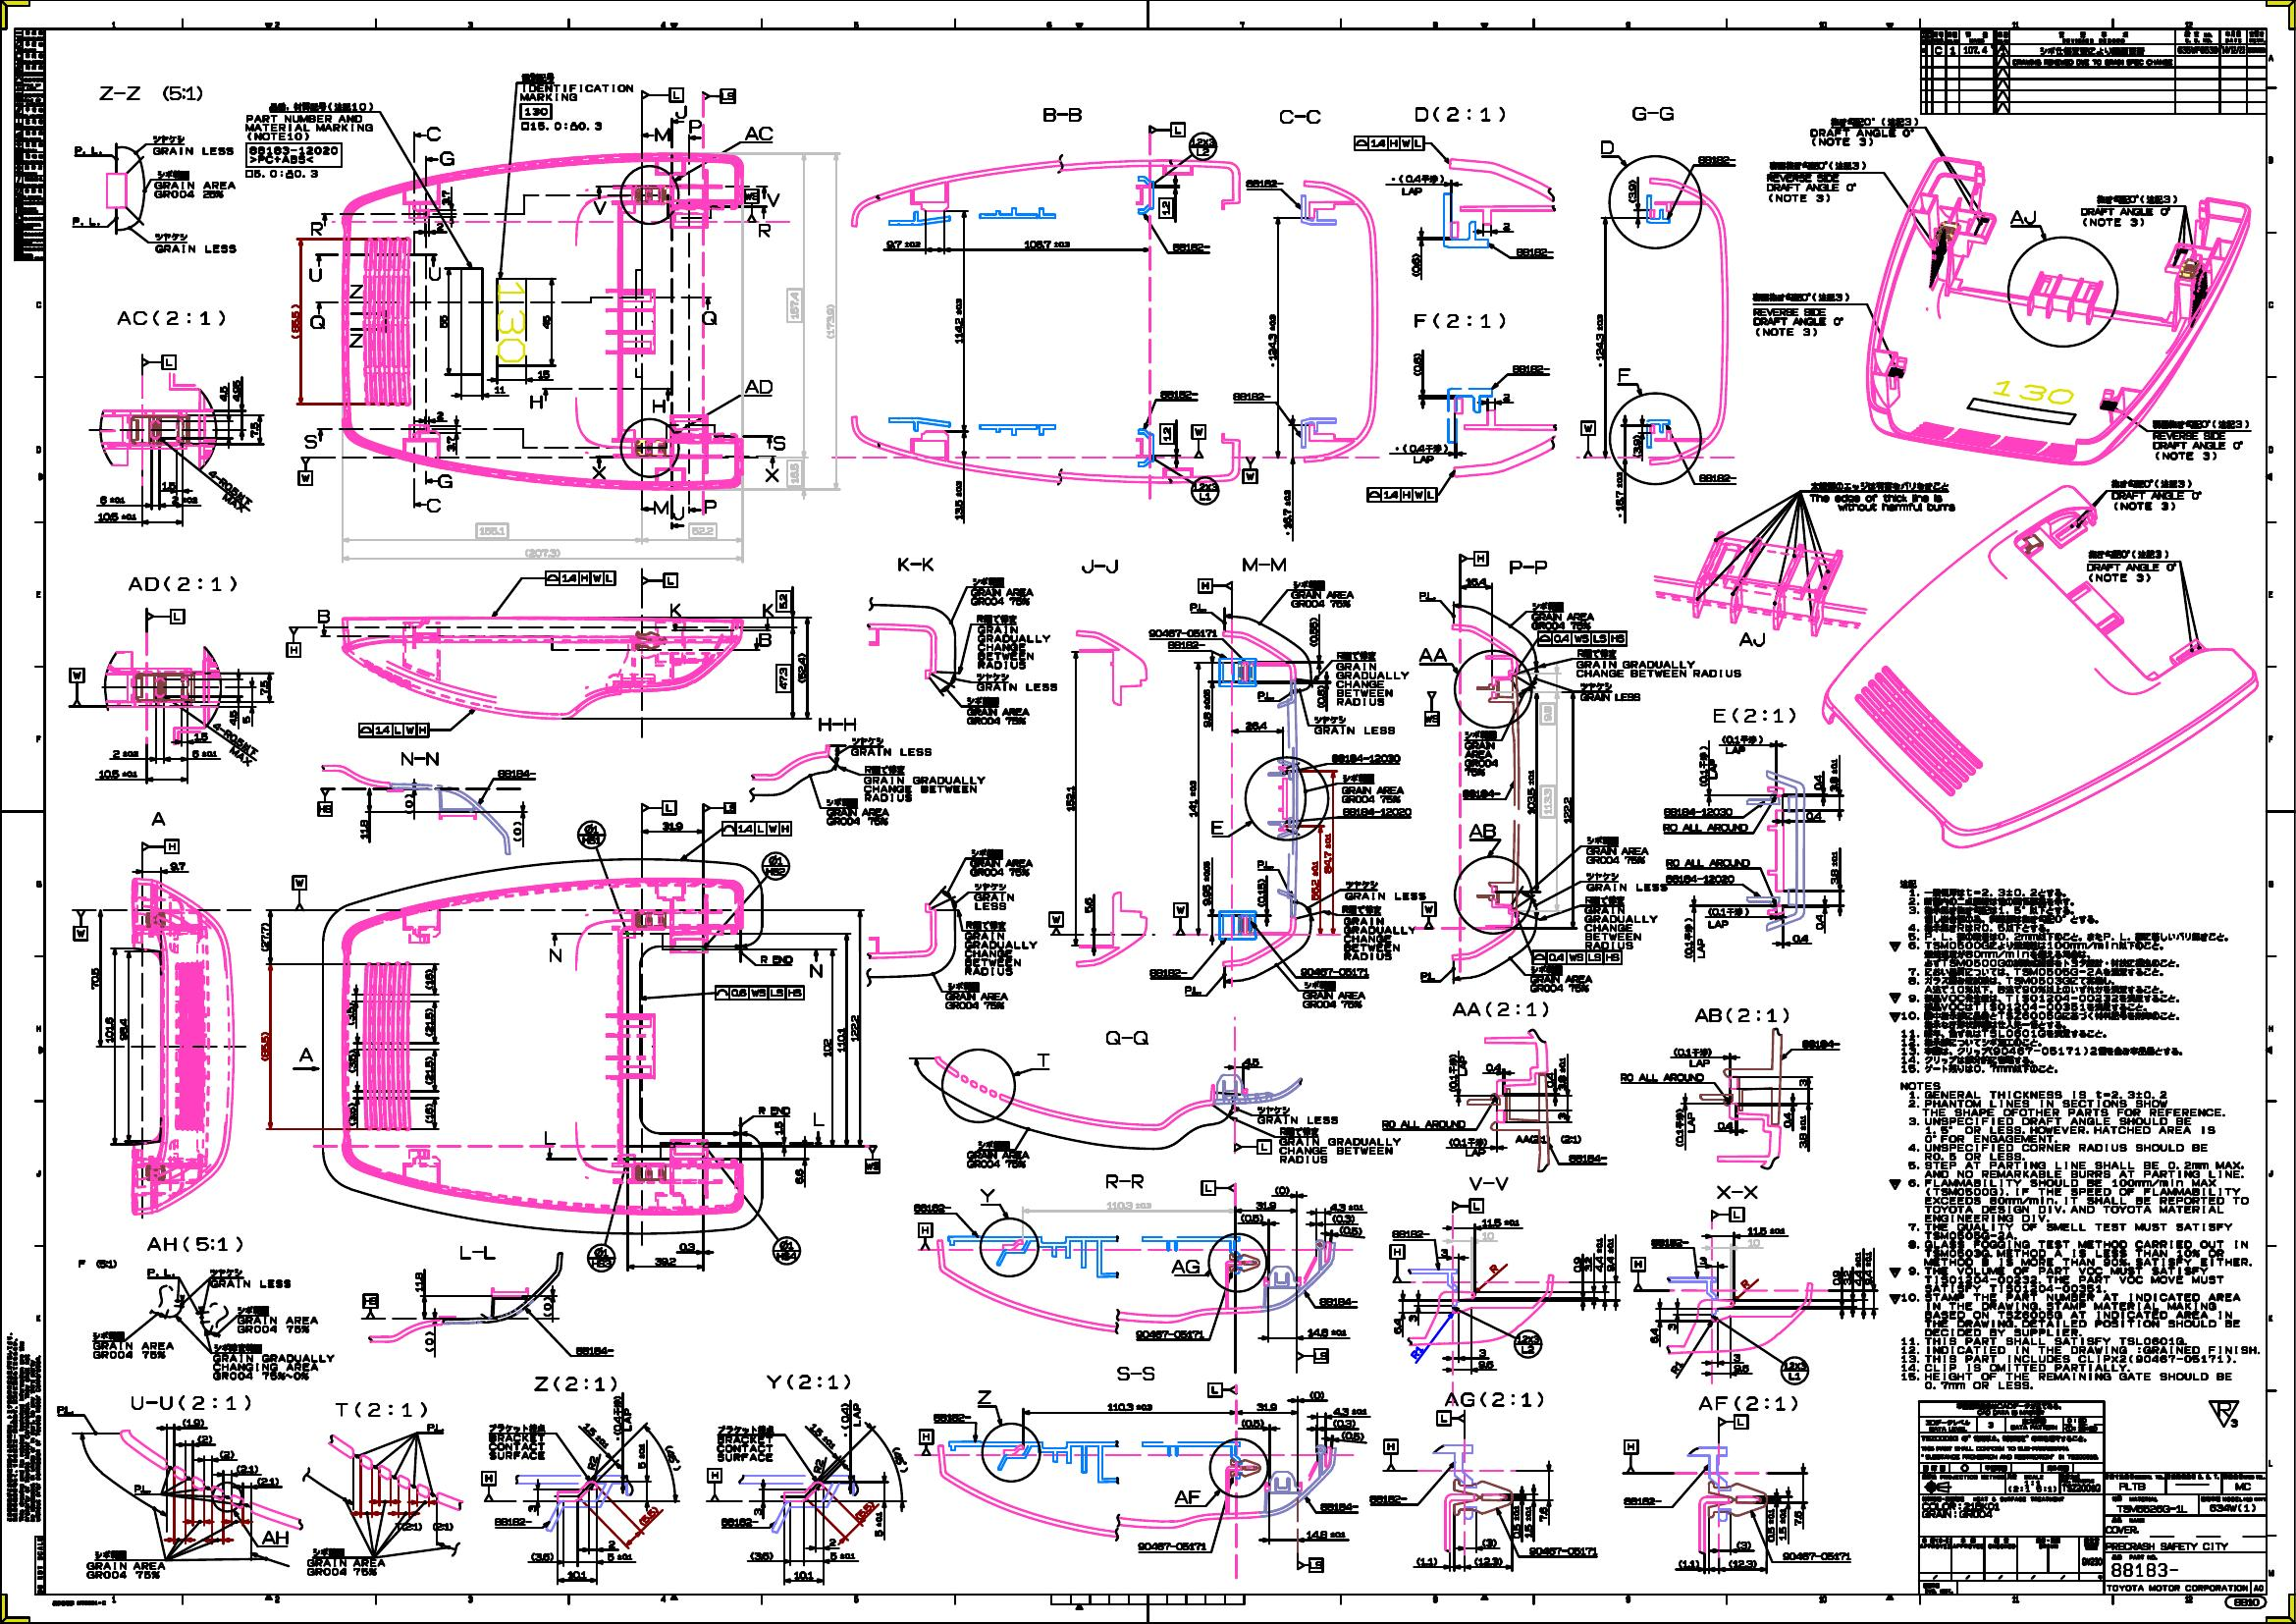anntotation_text: (1888, 1079, 2264, 1390), (1887, 875, 2231, 1076), (242, 98, 378, 183), (520, 69, 634, 139), (4, 1330, 42, 1522), (1279, 1125, 1402, 1165), (1750, 292, 1850, 341), (213, 1343, 337, 1381), (1764, 160, 1867, 206), (1576, 649, 1743, 677), (863, 765, 987, 801), (1808, 480, 1957, 510), (2150, 420, 2252, 462), (1335, 649, 1409, 707), (1340, 903, 1416, 960), (964, 919, 1038, 975), (1585, 895, 1660, 949), (975, 613, 1051, 668), (1806, 114, 1920, 148), (2080, 192, 2180, 228), (2110, 476, 2203, 511), (2087, 548, 2177, 582), (90, 1330, 176, 1360), (235, 1304, 320, 1334), (83, 1548, 165, 1578), (306, 1547, 386, 1577), (487, 1420, 546, 1461), (715, 1422, 775, 1462), (153, 170, 235, 199), (97, 83, 204, 104), (1411, 309, 1507, 332), (128, 1394, 253, 1411), (126, 573, 237, 592), (1409, 105, 1507, 127), (1340, 772, 1405, 803), (116, 308, 230, 325), (1695, 1394, 1799, 1413), (963, 696, 1029, 726), (153, 232, 239, 255), (1586, 835, 1648, 866), (964, 1139, 1029, 1169), (824, 796, 889, 826), (1289, 580, 1358, 608), (945, 981, 1008, 1011), (153, 134, 235, 156), (146, 1234, 242, 1253), (332, 1399, 429, 1418), (970, 847, 1031, 877), (1528, 965, 1593, 993), (1449, 1002, 1551, 1019), (1530, 601, 1593, 629), (1342, 881, 1426, 902), (1256, 1104, 1339, 1125), (1585, 872, 1667, 893), (975, 671, 1058, 692), (764, 1373, 854, 1392), (1692, 1007, 1790, 1025), (1463, 729, 1498, 779), (1303, 981, 1365, 1009), (970, 576, 1031, 605), (1442, 1392, 1546, 1408), (1312, 715, 1397, 735), (848, 736, 933, 756), (209, 1269, 292, 1288), (532, 1374, 618, 1392), (1537, 631, 1628, 647), (1532, 949, 1621, 965), (715, 984, 805, 1000), (1709, 707, 1797, 722), (206, 733, 264, 756), (1390, 174, 1442, 199), (1393, 441, 1448, 464), (1579, 682, 1643, 701), (973, 881, 1014, 910), (2206, 1396, 2242, 1429), (357, 722, 429, 738), (199, 482, 256, 501), (545, 571, 615, 587), (1367, 487, 1437, 503), (1660, 821, 1750, 833), (1706, 907, 1750, 932), (1618, 1070, 1706, 1083), (720, 821, 792, 835), (1353, 135, 1425, 149), (1672, 1106, 1697, 1146), (1683, 917, 1706, 960), (1513, 1329, 1542, 1360), (574, 819, 606, 849), (1188, 130, 1217, 162), (1446, 1137, 1490, 1158), (1672, 1046, 1713, 1069), (613, 1394, 632, 1441), (1664, 858, 1750, 868), (1780, 1355, 1809, 1385), (771, 1236, 801, 1265), (761, 851, 791, 881), (1191, 475, 1219, 506), (1133, 1327, 1205, 1339), (1660, 805, 1732, 817), (1342, 805, 1412, 817), (1720, 735, 1764, 754), (1514, 1134, 1583, 1146), (840, 1401, 863, 1438), (1465, 1174, 1513, 1192), (1628, 105, 1676, 123), (1699, 743, 1718, 786), (587, 1243, 615, 1271), (1448, 1053, 1467, 1093), (67, 666, 86, 707), (639, 86, 683, 104), (1715, 1183, 1758, 1200), (1298, 967, 1370, 977), (1527, 1545, 1599, 1555), (1381, 1120, 1467, 1128), (1240, 555, 1288, 571), (1275, 107, 1323, 123), (1664, 874, 1734, 884), (1103, 1172, 1145, 1190), (1332, 752, 1402, 763), (1137, 1541, 1207, 1552), (1781, 1550, 1852, 1561), (1042, 105, 1082, 123), (1105, 1030, 1149, 1046), (1079, 557, 1123, 573), (1233, 1137, 1272, 1155), (1116, 1366, 1154, 1383), (1507, 559, 1549, 575), (815, 715, 857, 731), (1390, 1243, 1405, 1283), (399, 750, 439, 766), (896, 555, 936, 571), (457, 1244, 497, 1260), (395, 1520, 455, 1531), (1200, 1179, 1235, 1197), (1423, 691, 1440, 726), (1147, 629, 1217, 638), (141, 838, 179, 854), (146, 608, 184, 624), (741, 125, 773, 144), (1736, 631, 1769, 649), (641, 571, 678, 587), (1623, 1438, 1639, 1475), (1170, 1258, 1202, 1276), (1630, 1257, 1646, 1292), (1196, 578, 1231, 594), (1581, 420, 1595, 459), (703, 88, 736, 104), (1295, 1348, 1328, 1364), (1451, 1197, 1484, 1213), (72, 909, 88, 942), (1172, 902, 1188, 935), (641, 800, 675, 816), (35, 1534, 44, 1594), (1458, 550, 1488, 568), (743, 380, 773, 397), (1435, 1410, 1465, 1427), (2008, 207, 2038, 225), (1318, 1295, 1360, 1308), (1460, 787, 1502, 800), (1149, 123, 1186, 137), (1170, 241, 1212, 253), (316, 786, 332, 817), (1391, 1229, 1432, 1241), (1514, 246, 1555, 258), (49, 1599, 105, 1608), (703, 800, 738, 814), (1191, 424, 1205, 459), (1240, 457, 1258, 485), (1802, 1037, 1841, 1049), (297, 455, 313, 485), (1467, 823, 1497, 838), (1418, 647, 1448, 663), (1173, 1489, 1203, 1504), (1383, 1439, 1398, 1469), (1718, 1413, 1748, 1429), (743, 188, 757, 221), (1711, 1207, 1744, 1222), (292, 875, 306, 909), (706, 1468, 720, 1501), (1623, 1496, 1660, 1508), (1565, 1151, 1607, 1162), (912, 1202, 954, 1213), (77, 1258, 119, 1269), (286, 626, 300, 657), (864, 1144, 880, 1172), (481, 1469, 495, 1501), (917, 1427, 933, 1455), (1697, 473, 1739, 483), (141, 355, 176, 367), (755, 1104, 791, 1116), (362, 1294, 379, 1318), (1650, 1237, 1690, 1248), (1166, 640, 1207, 650), (1147, 967, 1188, 977), (574, 1345, 615, 1355), (718, 1517, 759, 1527), (931, 1411, 971, 1422), (1319, 1501, 1360, 1512), (1158, 388, 1198, 399), (1511, 364, 1551, 374), (1421, 902, 1435, 932), (917, 1223, 933, 1250), (262, 1529, 288, 1545), (1296, 1557, 1323, 1573), (494, 1517, 532, 1527), (1368, 1494, 1407, 1504), (1244, 178, 1282, 188), (1697, 155, 1736, 165), (307, 313, 327, 332), (761, 954, 796, 965), (1207, 1383, 1237, 1396), (70, 214, 100, 227), (1049, 912, 1065, 935), (495, 768, 536, 777), (1231, 392, 1272, 401), (755, 221, 773, 241), (764, 190, 782, 209), (650, 395, 668, 415), (771, 434, 789, 453), (701, 497, 718, 517), (652, 497, 669, 517), (590, 464, 608, 483), (527, 394, 545, 413), (348, 281, 365, 301), (307, 220, 325, 239), (425, 264, 443, 283), (437, 149, 455, 169), (423, 125, 441, 144), (590, 199, 608, 218), (348, 330, 365, 350), (653, 125, 671, 144), (685, 116, 703, 135), (1599, 137, 1616, 156), (72, 144, 104, 155), (699, 311, 717, 329), (762, 466, 780, 483), (669, 504, 687, 522), (306, 264, 323, 281), (425, 496, 441, 515), (302, 432, 318, 452), (437, 473, 453, 490), (149, 810, 167, 826), (297, 1048, 313, 1065), (548, 947, 564, 965), (755, 631, 771, 649), (977, 1388, 993, 1406), (673, 104, 689, 121), (1209, 819, 1224, 835), (808, 961, 824, 977), (1616, 366, 1632, 381), (146, 1267, 174, 1276), (1418, 591, 1439, 601), (980, 1186, 994, 1202), (316, 608, 330, 624), (541, 1130, 555, 1146), (1188, 601, 1209, 612), (1256, 689, 1274, 701), (1254, 858, 1274, 868), (132, 1483, 151, 1494), (425, 1422, 444, 1432), (761, 601, 775, 615), (1036, 1051, 1049, 1067), (669, 601, 682, 617), (1419, 970, 1437, 981), (1184, 984, 1202, 995), (812, 1113, 824, 1127), (54, 1404, 74, 1413), (632, 367, 641, 380)
dimension_text: (1593, 311, 1606, 367), (1267, 313, 1279, 367), (1281, 489, 1293, 538), (787, 288, 803, 322), (1022, 239, 1072, 250), (954, 297, 964, 344), (1202, 859, 1212, 907), (1525, 768, 1535, 816), (476, 524, 508, 540), (689, 522, 717, 540), (1107, 1401, 1152, 1411), (1202, 685, 1212, 729), (1614, 469, 1623, 520), (787, 459, 803, 487), (1305, 1327, 1347, 1338), (1479, 1216, 1521, 1227), (1541, 786, 1555, 817), (775, 664, 791, 692), (824, 304, 836, 339), (1852, 1251, 1864, 1287), (1188, 777, 1198, 817), (1746, 1225, 1787, 1236), (98, 768, 139, 779), (97, 511, 137, 522), (1105, 1200, 1152, 1209), (1158, 197, 1173, 221), (290, 302, 300, 339), (1472, 1555, 1504, 1568), (885, 239, 921, 250), (1829, 758, 1839, 793), (1556, 1056, 1567, 1091), (1864, 1251, 1874, 1287), (775, 591, 792, 612), (954, 480, 963, 520), (1323, 833, 1332, 874), (1310, 859, 1319, 900), (1305, 1529, 1346, 1538), (1333, 1406, 1367, 1417), (1778, 1508, 1788, 1541), (578, 1431, 611, 1441), (796, 650, 806, 684), (666, 1443, 678, 1471), (522, 548, 560, 557), (260, 921, 271, 953), (1606, 1236, 1614, 1272), (1256, 877, 1267, 907), (1309, 617, 1319, 647), (848, 1012, 859, 1042), (894, 1445, 905, 1475), (1799, 1114, 1808, 1149), (805, 1432, 840, 1441), (1513, 1504, 1521, 1540), (1767, 1508, 1776, 1543), (1330, 1202, 1365, 1211), (1595, 1236, 1604, 1271), (1159, 424, 1175, 443), (1244, 719, 1268, 731), (852, 1504, 877, 1517), (1541, 703, 1555, 724), (423, 1007, 434, 1035), (1523, 1504, 1532, 1538), (1830, 851, 1839, 884), (661, 819, 683, 831), (1065, 784, 1075, 810), (104, 1016, 114, 1042), (260, 1030, 269, 1062), (1727, 1559, 1757, 1568), (1562, 794, 1570, 824), (1411, 253, 1421, 278), (1316, 684, 1326, 708), (118, 1018, 128, 1042), (423, 967, 434, 991), (346, 1102, 357, 1127), (873, 1512, 884, 1536), (748, 1550, 773, 1561), (1254, 1401, 1279, 1411), (1332, 1418, 1356, 1429), (1340, 1431, 1365, 1441), (423, 1329, 434, 1353), (541, 1295, 553, 1316), (1339, 1225, 1363, 1236), (511, 819, 522, 844), (402, 793, 415, 814), (423, 1056, 432, 1084), (98, 496, 126, 504), (1465, 576, 1488, 587), (344, 1002, 355, 1025), (653, 1257, 676, 1267), (1416, 1555, 1439, 1566), (181, 1417, 204, 1427), (1240, 1213, 1263, 1223), (1332, 1213, 1354, 1223), (358, 817, 369, 840), (1412, 352, 1421, 378), (836, 1026, 845, 1053), (606, 1552, 632, 1561), (638, 1443, 646, 1469), (112, 749, 139, 758), (190, 749, 216, 758), (170, 496, 197, 504), (423, 1102, 434, 1123), (792, 1570, 813, 1580), (413, 1271, 423, 1292), (230, 380, 241, 401), (1632, 434, 1641, 459), (1627, 179, 1635, 204), (169, 859, 186, 872), (348, 1049, 357, 1074), (636, 1512, 661, 1520), (1240, 1418, 1265, 1427), (1676, 1559, 1700, 1568), (235, 1464, 260, 1473), (255, 1476, 279, 1485), (90, 967, 98, 990), (531, 1552, 553, 1561), (1254, 1200, 1277, 1209), (1481, 1536, 1497, 1548), (439, 188, 450, 206), (678, 1241, 696, 1251), (794, 1167, 805, 1185), (566, 1570, 587, 1578), (829, 1552, 856, 1559), (1539, 1504, 1549, 1522), (218, 1448, 235, 1459), (1391, 1316, 1402, 1334), (1648, 1327, 1658, 1345), (1732, 1362, 1750, 1373), (446, 434, 455, 453), (822, 1037, 831, 1056), (1546, 1070, 1555, 1090), (773, 1120, 783, 1135), (1484, 1062, 1500, 1072), (812, 1457, 822, 1473), (1736, 1540, 1751, 1550), (1274, 1185, 1289, 1195), (258, 678, 269, 694), (249, 422, 260, 438), (1084, 896, 1093, 914), (1783, 1111, 1792, 1128), (1477, 1360, 1495, 1369), (1407, 1346, 1425, 1355), (1574, 1255, 1583, 1272), (1843, 1269, 1852, 1287), (1813, 773, 1822, 791), (1815, 914, 1823, 932), (228, 708, 237, 726), (220, 383, 228, 401), (437, 315, 448, 329), (160, 480, 174, 490), (1242, 1056, 1258, 1065), (1716, 1121, 1732, 1130), (1309, 1390, 1325, 1399), (1794, 1510, 1802, 1526), (583, 1459, 599, 1468), (197, 1434, 213, 1443), (1667, 1362, 1683, 1371), (1832, 1269, 1841, 1285), (1792, 933, 1808, 942), (494, 383, 506, 394), (541, 315, 550, 329), (1585, 1257, 1593, 1271), (193, 731, 207, 740), (752, 1506, 762, 1517), (1477, 1346, 1488, 1357), (1806, 812, 1822, 819), (241, 714, 251, 724), (538, 369, 550, 378), (436, 410, 444, 420), (1556, 1111, 1567, 1120), (1797, 1077, 1808, 1086), (829, 1536, 838, 1547), (527, 1503, 538, 1512), (1407, 1313, 1418, 1322), (1665, 1322, 1676, 1330), (1732, 1352, 1741, 1362), (1699, 1255, 1708, 1265), (1741, 1278, 1750, 1288), (1748, 1239, 1760, 1246), (1502, 221, 1511, 230), (436, 221, 444, 230), (608, 1538, 617, 1547), (1490, 1264, 1498, 1272), (1483, 1232, 1493, 1239), (1502, 392, 1509, 401), (1440, 1248, 1448, 1257)
object: (321, 858, 769, 1236), (1820, 480, 2261, 851), (336, 148, 748, 492), (848, 155, 1244, 487), (1859, 153, 2254, 468), (339, 617, 747, 722), (935, 1232, 1337, 1338), (936, 1438, 1339, 1541), (1439, 153, 1562, 476), (130, 875, 239, 1223), (1216, 613, 1316, 988), (912, 1056, 1305, 1151), (866, 599, 959, 982), (1449, 601, 1541, 984), (1072, 626, 1151, 974), (1644, 174, 1730, 468), (1651, 529, 1873, 638), (1298, 178, 1379, 464), (116, 1427, 304, 1531), (365, 1250, 566, 1345), (320, 761, 513, 858), (1405, 1265, 1556, 1350), (1467, 1026, 1553, 1174), (1699, 1025, 1783, 1171), (1667, 1272, 1816, 1353), (100, 371, 216, 471), (107, 643, 220, 743), (327, 1434, 464, 1513), (1748, 770, 1808, 932), (1432, 1443, 1514, 1554), (1688, 1445, 1769, 1555), (513, 1473, 636, 1534), (738, 1471, 857, 1534), (750, 742, 841, 798), (148, 1285, 230, 1338), (102, 142, 146, 232)
title_block: (1918, 1401, 2268, 1594), (1920, 28, 2266, 112), (12, 26, 44, 262)
